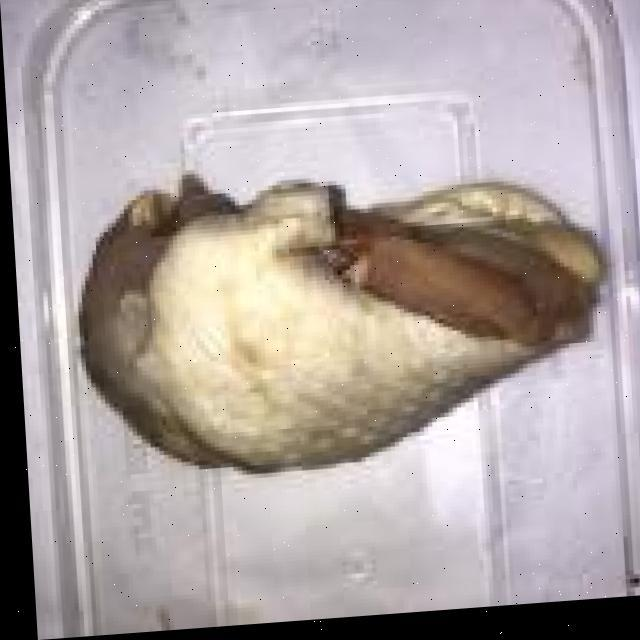breast: (59, 150, 608, 503)
